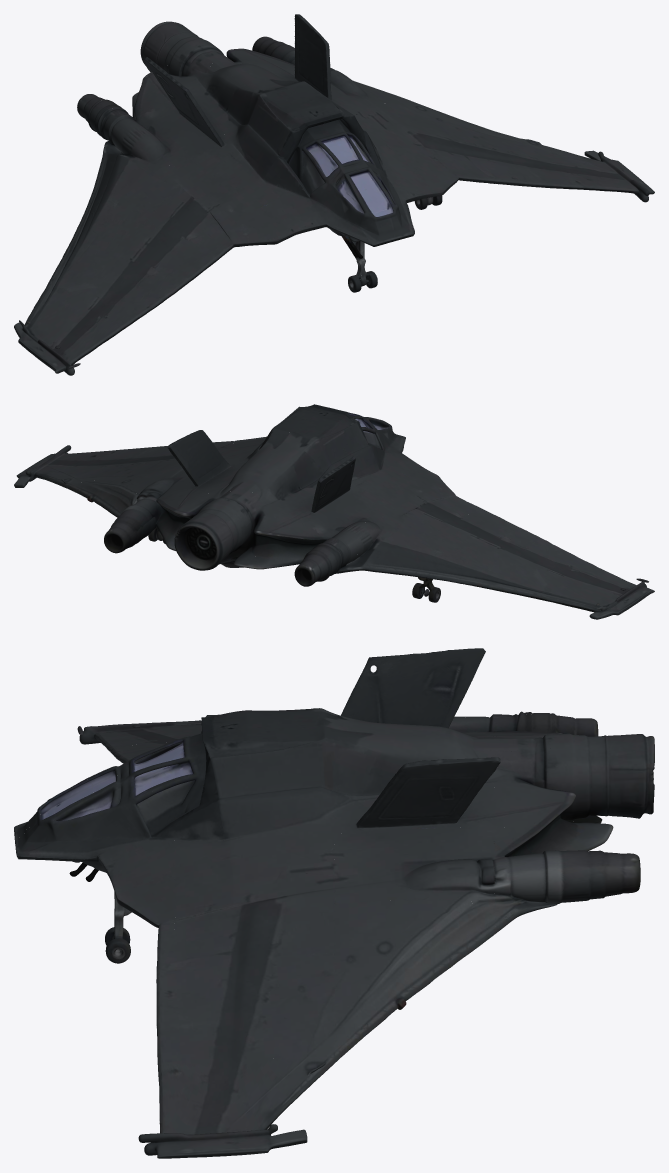
File: x302_fighter_opt.glb
3 views of the same model, one above another, from view 1: azimuth 30°, elevation 25°; view 2: azimuth 150°, elevation 25°; view 3: azimuth 270°, elevation 25° (orthographic). The views are drawn at different scales.
Parts seen in each view (by area): view 1: world; view 2: world; view 3: world.
Part boxes in pixels (bbox=[...]): world: bbox=[14, 14, 654, 375]; world: bbox=[14, 404, 654, 619]; world: bbox=[14, 648, 654, 1158].
Size of the model in its own units: 1 by 0.2598 by 0.6054.
1 material, 1 textured.
